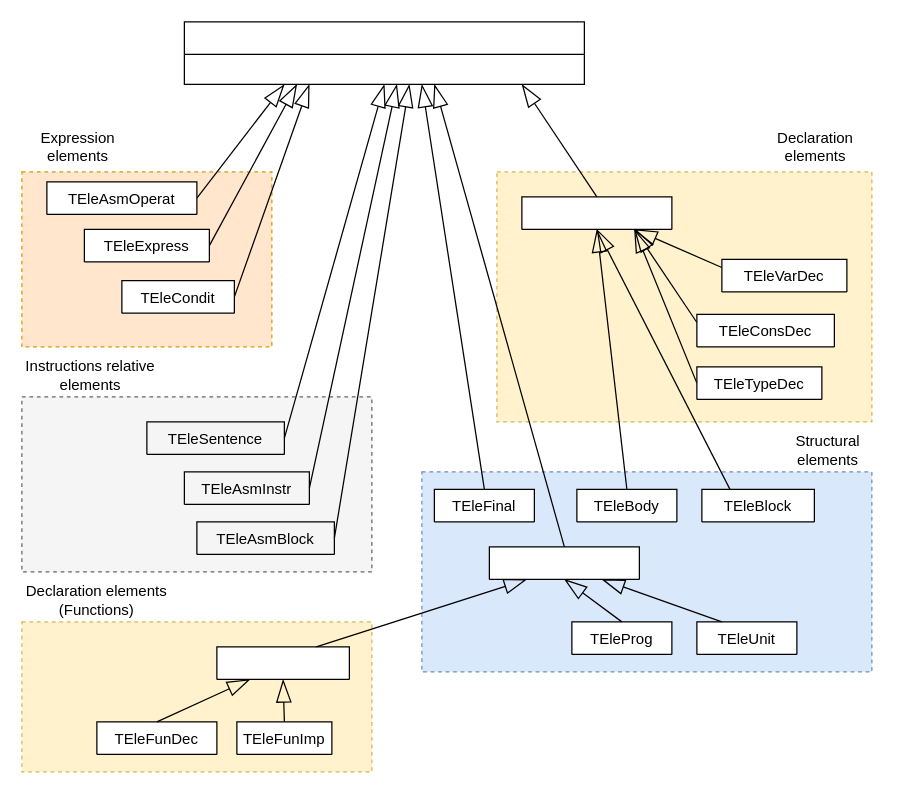
Some shapes in this 906 by 794 pixel diagram are drawn without their labels. The centre of each missing label's shape, as x and y in pixels:
"TAstElement" goes at (x=383, y=52).
"TEleCodeCont" goes at (x=596, y=212).
"TEleFunBase" goes at (x=282, y=662).
"TEleProgFrame" goes at (x=563, y=562).
